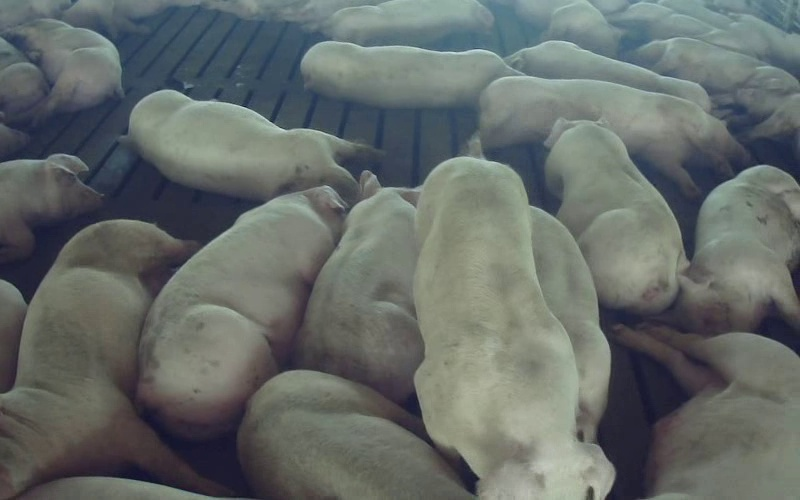pig: (414, 137, 614, 499), (0, 220, 229, 499), (137, 186, 345, 440), (613, 324, 799, 499), (479, 76, 748, 197), (237, 370, 472, 499), (292, 171, 423, 402), (122, 90, 380, 205), (545, 119, 687, 313), (665, 166, 799, 335), (530, 206, 610, 442), (301, 41, 519, 108), (505, 41, 710, 111), (7, 19, 123, 123), (0, 154, 101, 262), (632, 37, 799, 94), (606, 2, 755, 54), (323, 0, 493, 45), (515, 0, 621, 57)
